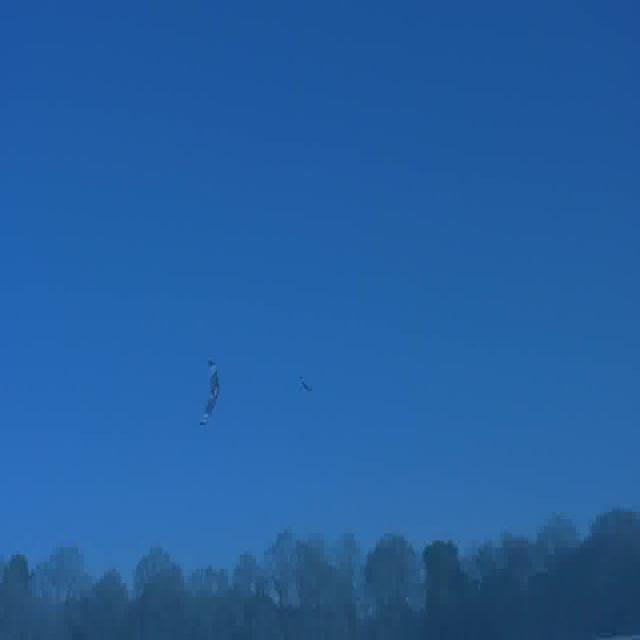iha: (196, 389, 226, 404)
